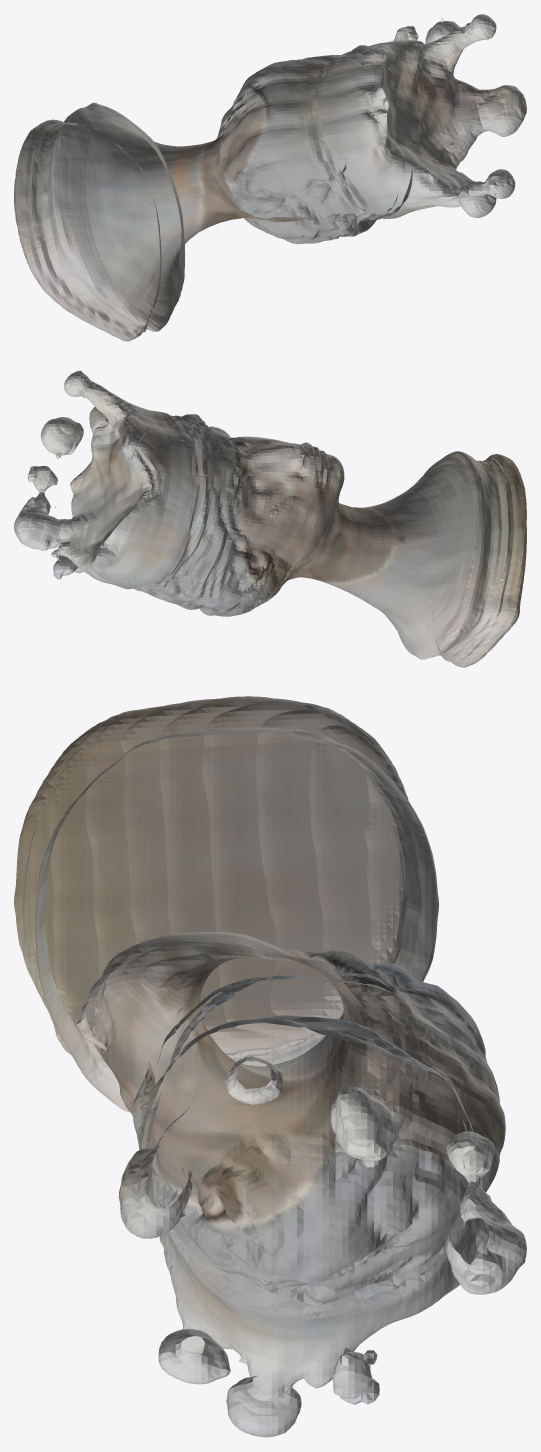
The model's file is queen.glb.
3 renders of one model, top to bottom at view 1: azimuth 30°, elevation 25°; view 2: azimuth 150°, elevation 25°; view 3: azimuth 270°, elevation 25°, orthographic. The views are drawn at different scales.
Parts seen in each view (by area): view 1: world; view 2: world; view 3: world.
Boxes of the visible parts, bbox=[...] form: world: bbox=[14, 14, 526, 341]; world: bbox=[14, 370, 526, 667]; world: bbox=[14, 696, 526, 1437].
Size of the model in its own units: 1.03 by 0.458 by 0.5475.
